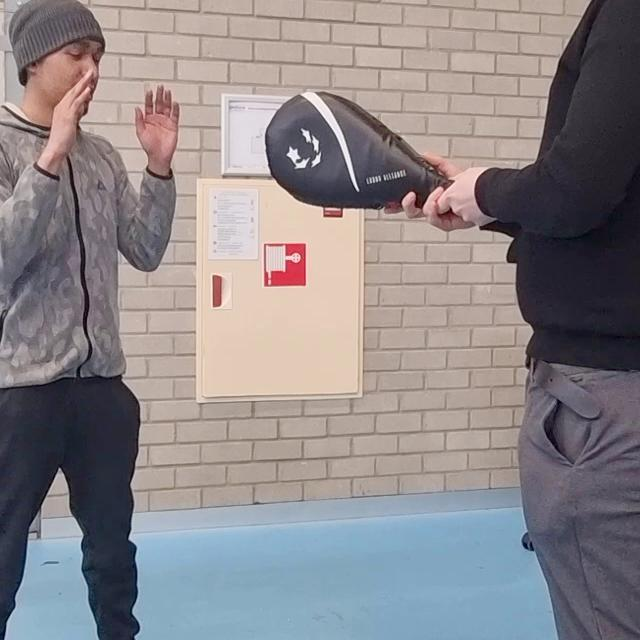paddle: (265, 90, 459, 213)
